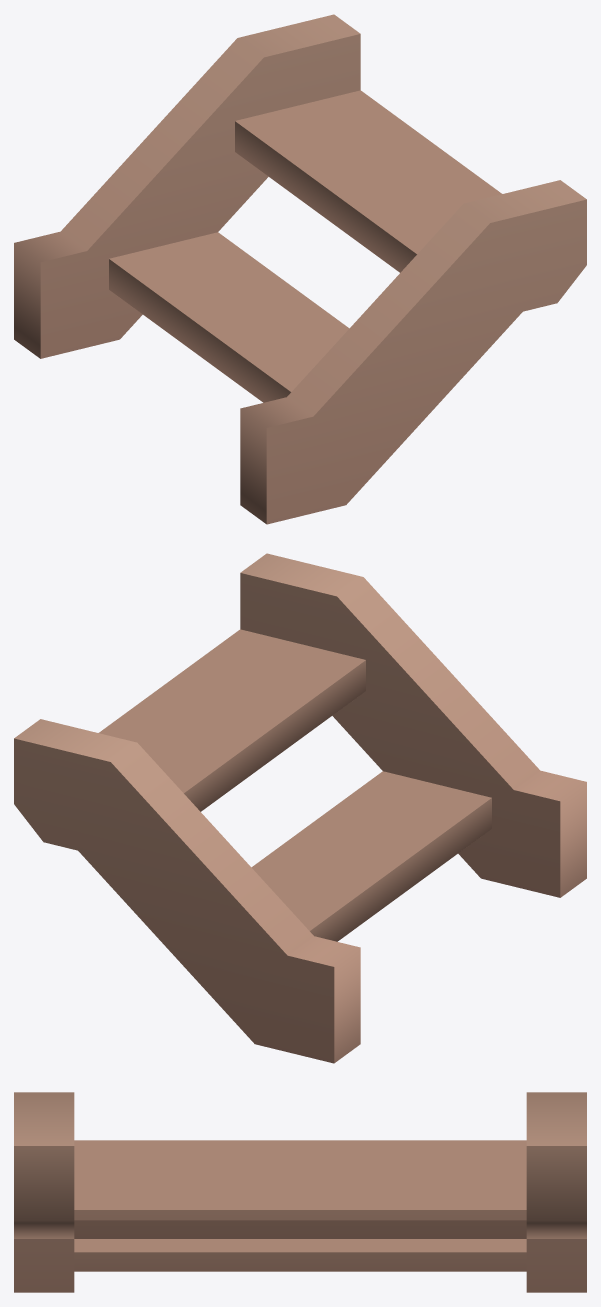
The model's file is bumper-d.glb.
The picture shows the model from 3 angles, top to bottom: view 1: azimuth 30°, elevation 25°; view 2: azimuth 150°, elevation 25°; view 3: azimuth 270°, elevation 25°; orthographic projection. The views are drawn at different scales.
Parts seen in each view (by area): view 1: bumper-d; view 2: bumper-d; view 3: bumper-d.
Part boxes in pixels (box(x1,y1,x2,y2)): bumper-d: box(14, 14, 586, 524); bumper-d: box(14, 553, 586, 1063); bumper-d: box(14, 1092, 586, 1292).
Bounding box in the file's own units: 0.5426 × 0.4 × 0.7421.
